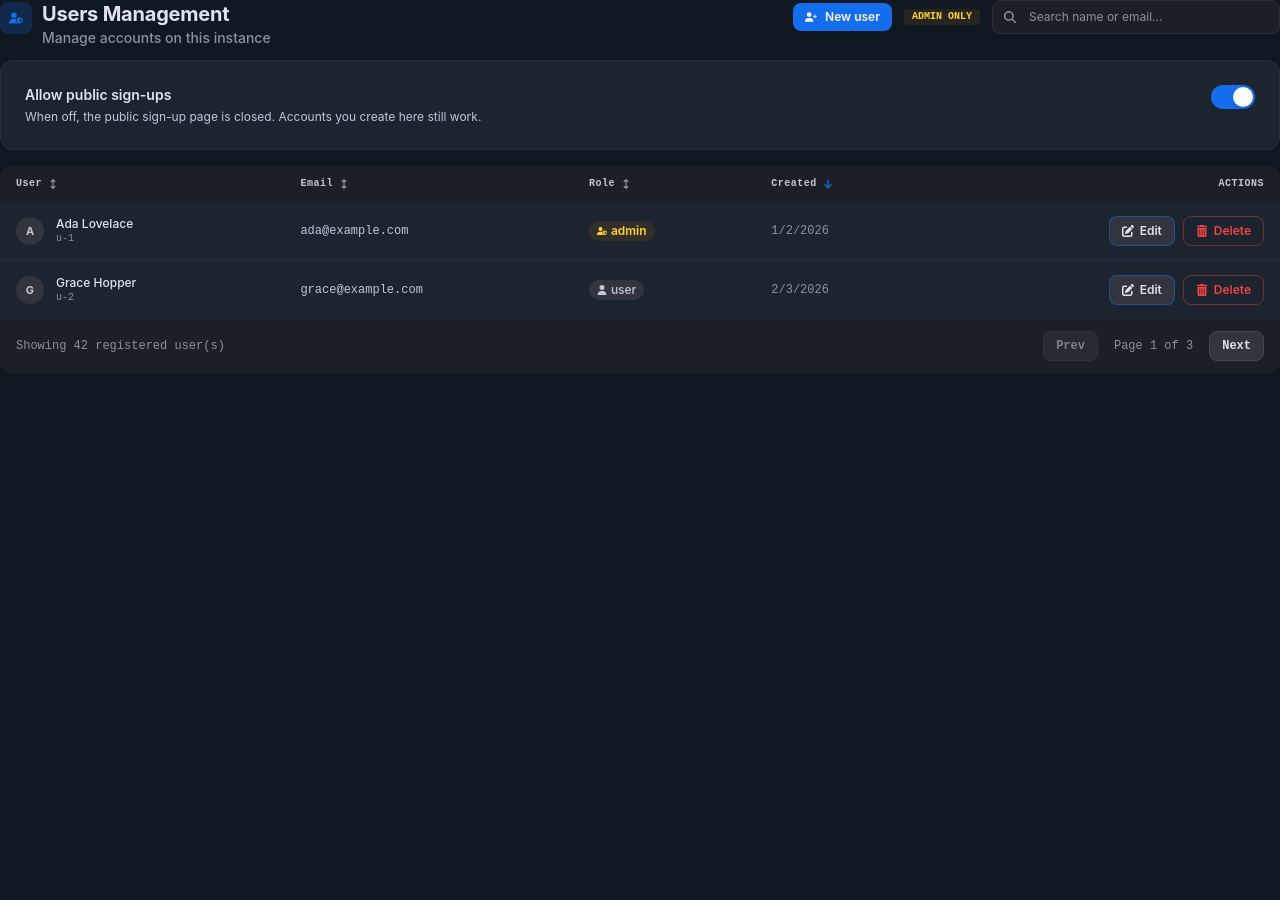
UsersSection edit actions › renders an Edit action beside Delete and opens the dialog prefilled
expect the text "Ada Lovelace" is shown: met, box [56,216,133,232]
Step 1. Click the button with aria-label "Edit Ada Lovelace" → (1142, 231), box [1109,216,1175,246]
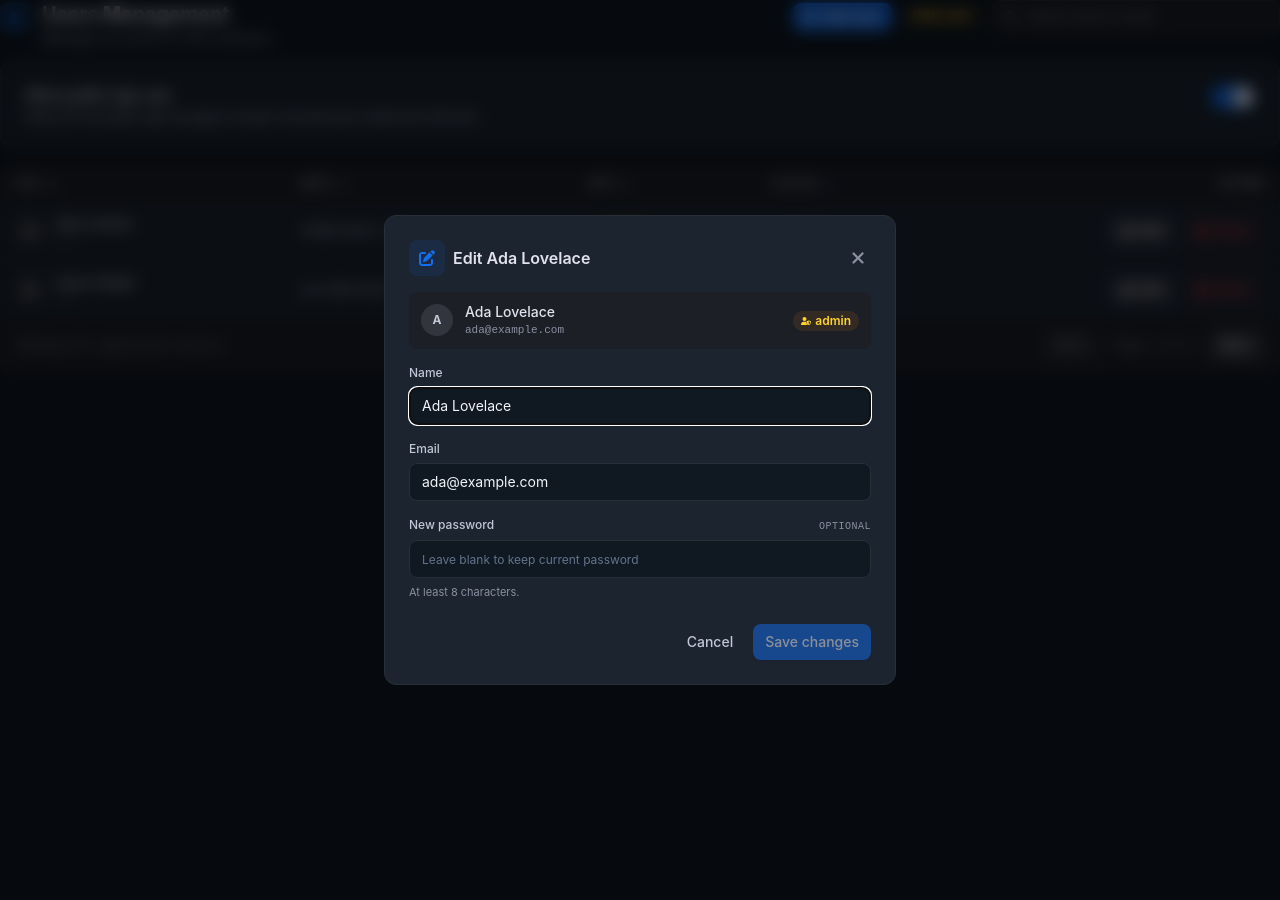
expect the dialog named "Edit user account" is shown: met
expect the field labelled "Name" holds "Ada Lovelace": met, box [409,386,871,424]
expect the field labelled "Email" holds "ada@example.com": met, box [409,462,871,500]
